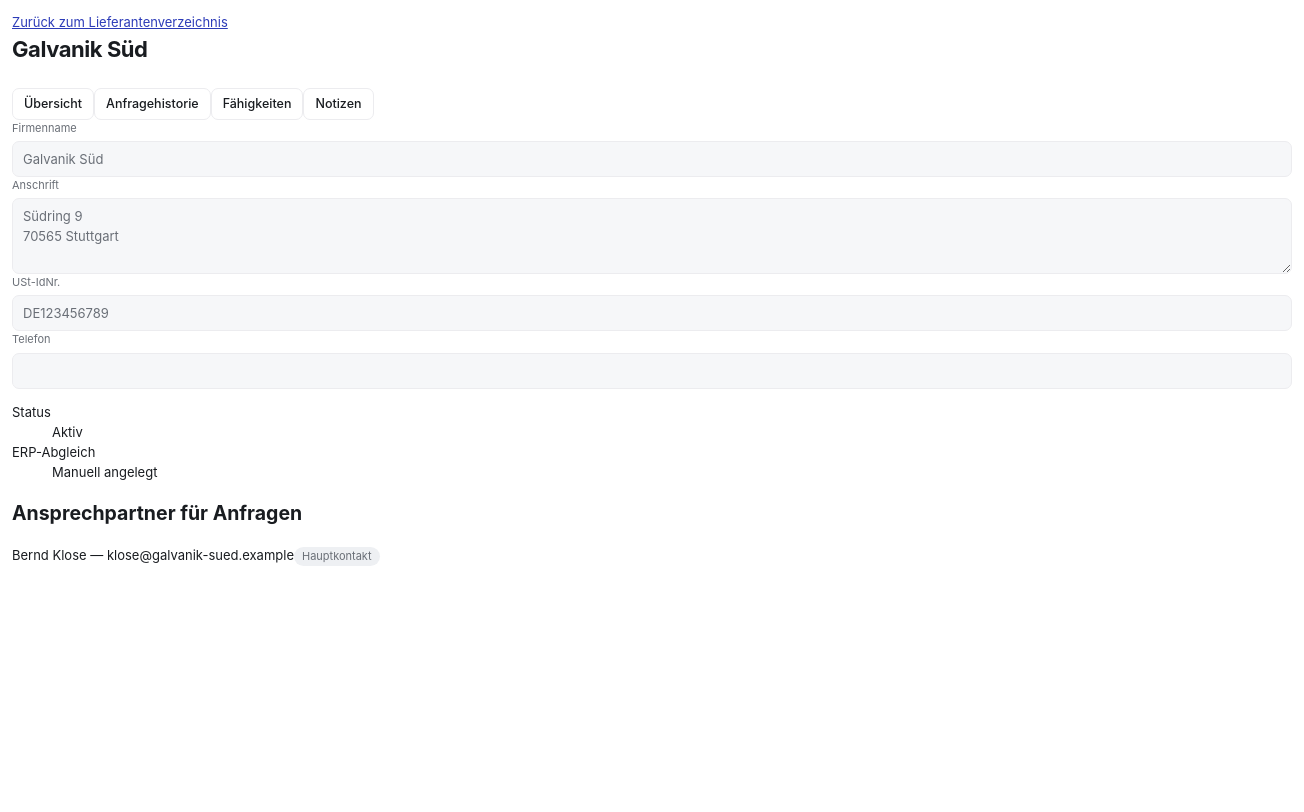
Test: VendorDetailPage › shows the RFQ-History empty state until M6.4 populates it
Click the tab "Anfragehistorie".
click(152, 104)  # box [94,88,211,120]
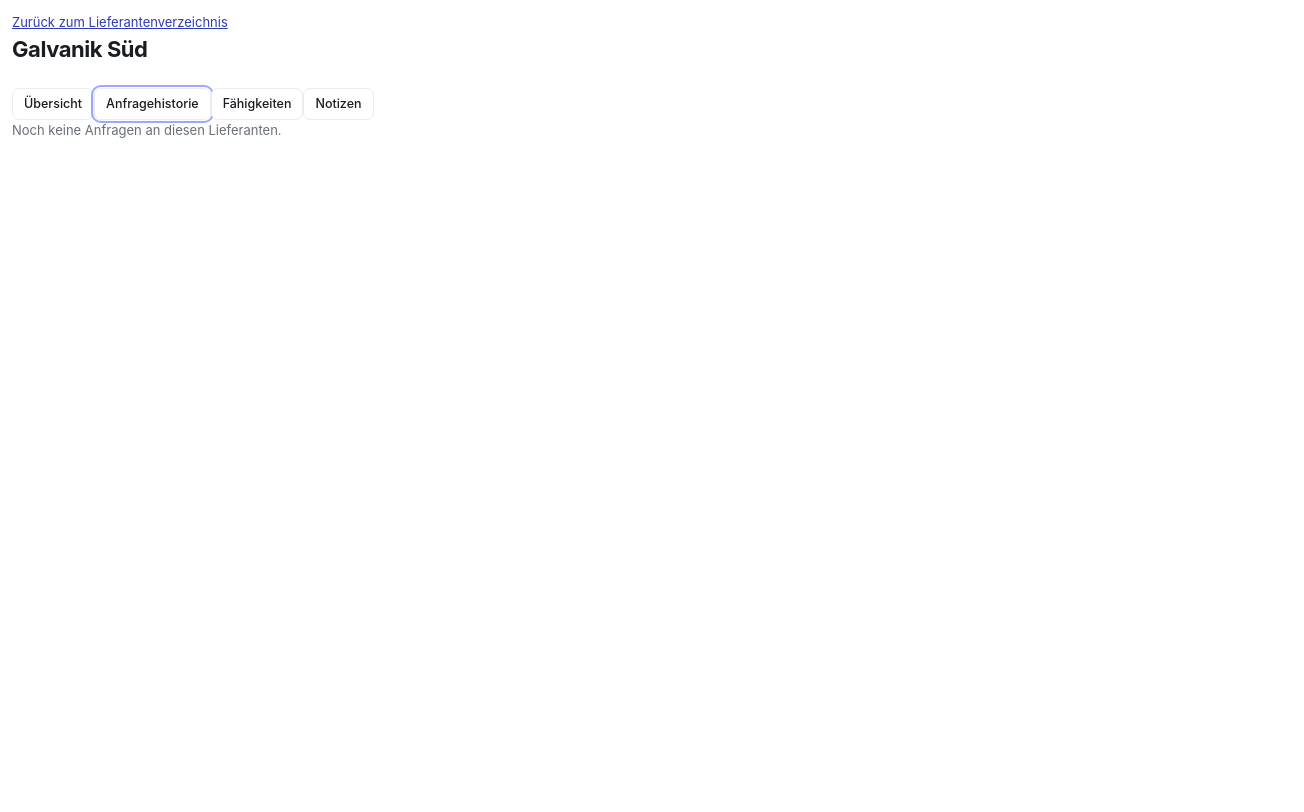
Now the text "Noch keine Anfragen an diesen Lieferanten." is shown, box [12,122,282,138]
